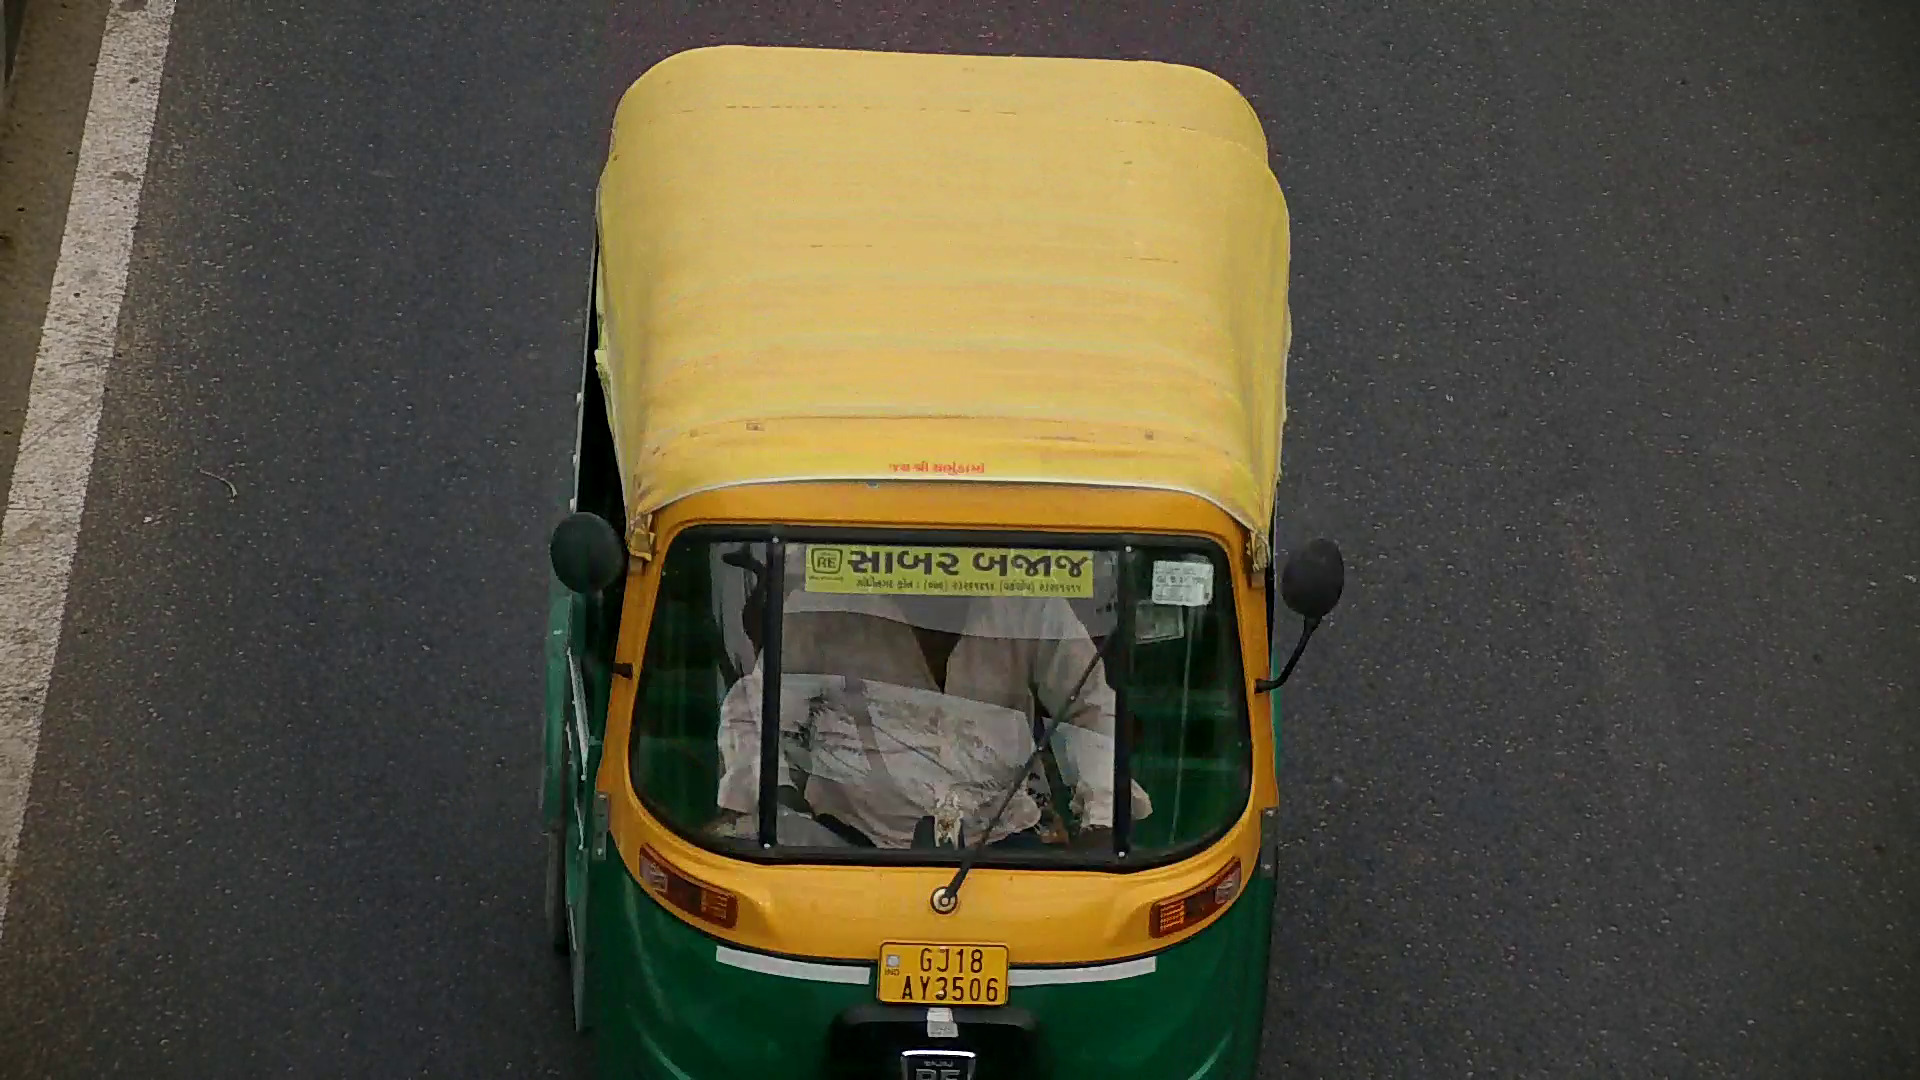doublelinenumberplate: (873, 934, 1011, 1007)
